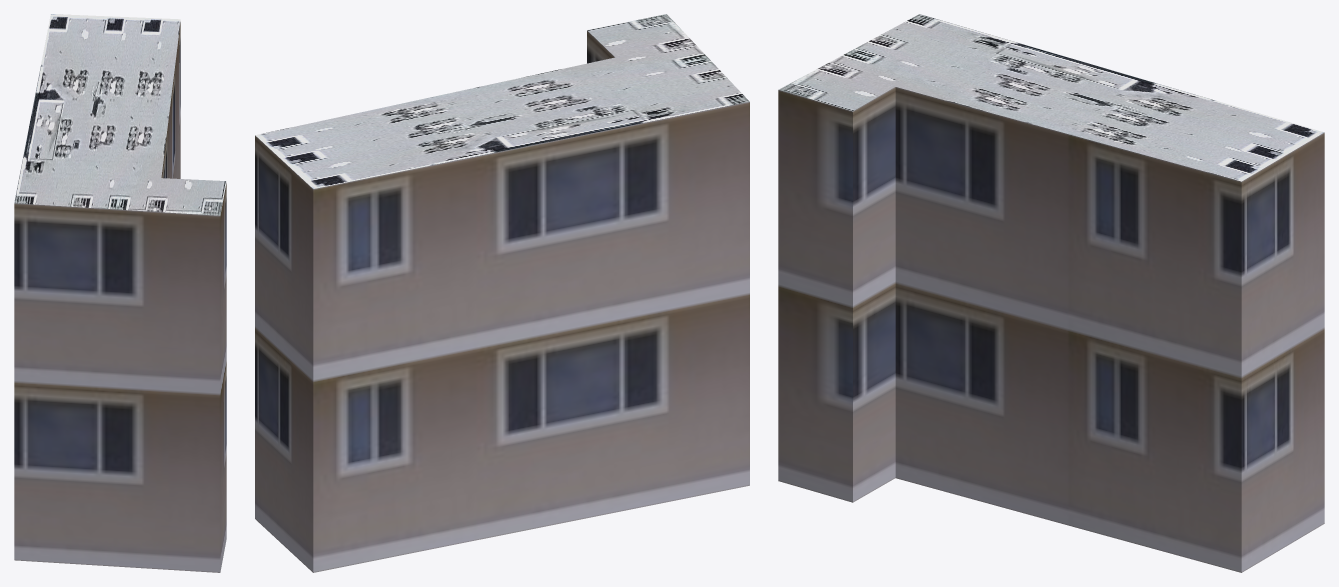
The model's file is ResTex__4123.fbx.
The picture shows the model from 3 angles, left to right: view 1: azimuth 30°, elevation 25°; view 2: azimuth 150°, elevation 25°; view 3: azimuth 270°, elevation 25°; orthographic projection. The views are drawn at different scales.
Visible parts, largest first — view 1: CityEngineMaterial_21_m, CityEngineMaterial_8_m; view 2: CityEngineMaterial_21_m, CityEngineMaterial_8_m; view 3: CityEngineMaterial_21_m, CityEngineMaterial_8_m.
Part boxes in pixels (<box>): CityEngineMaterial_21_m: <box>14,22,226,572</box>; CityEngineMaterial_8_m: <box>14,14,226,215</box>; CityEngineMaterial_21_m: <box>255,30,749,572</box>; CityEngineMaterial_8_m: <box>255,14,749,188</box>; CityEngineMaterial_21_m: <box>778,87,1324,572</box>; CityEngineMaterial_8_m: <box>779,14,1323,181</box>.
Size of the model in its own units: 5.51 by 6 by 7.59.
2 materials, 2 textured.
